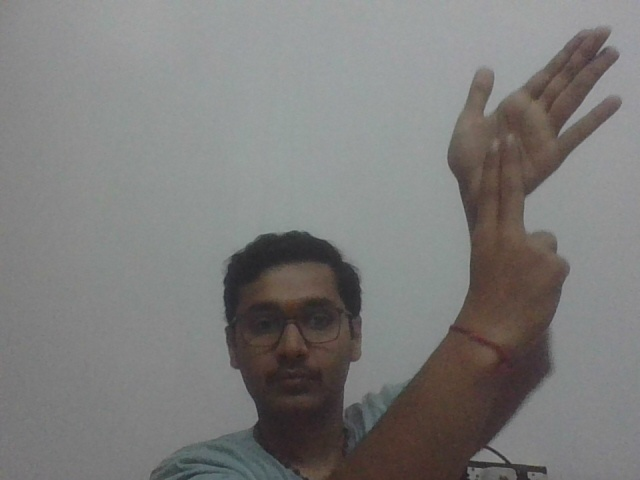N: (443, 23, 632, 283)
